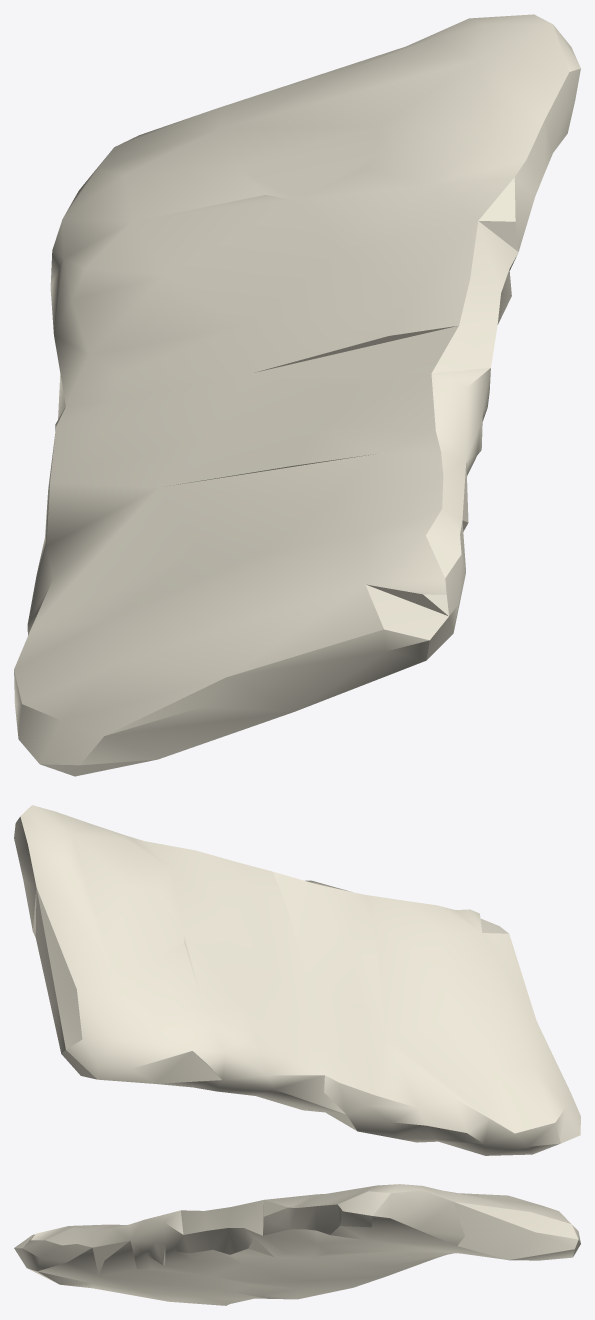
Rendered from fma44219_mm1378m.glb.
3 views of the same model, one above another, from view 1: azimuth 30°, elevation 25°; view 2: azimuth 150°, elevation 25°; view 3: azimuth 270°, elevation 25° (orthographic). The views are drawn at different scales.
Parts seen in each view (by area): view 1: FMA44219_MM1378M; view 2: FMA44219_MM1378M; view 3: FMA44219_MM1378M.
Part boxes in pixels (x1=…): FMA44219_MM1378M: x1=14, y1=14, x2=580, y2=776; FMA44219_MM1378M: x1=14, y1=805, x2=580, y2=1155; FMA44219_MM1378M: x1=14, y1=1184, x2=580, y2=1305.
Size of the model in its own units: 0.0114 by 0.00743 by 0.0133.
